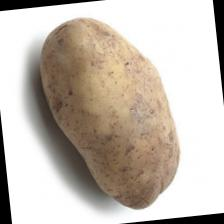potato: (33, 7, 187, 218)
